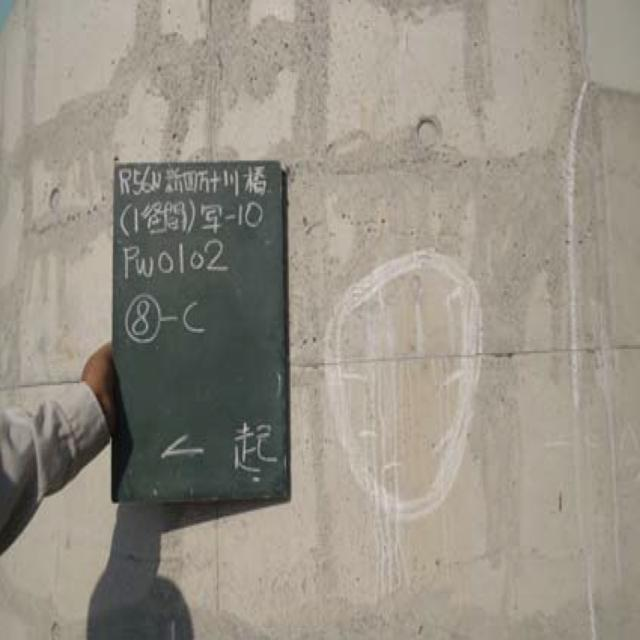freelime: (320, 258, 500, 523)
